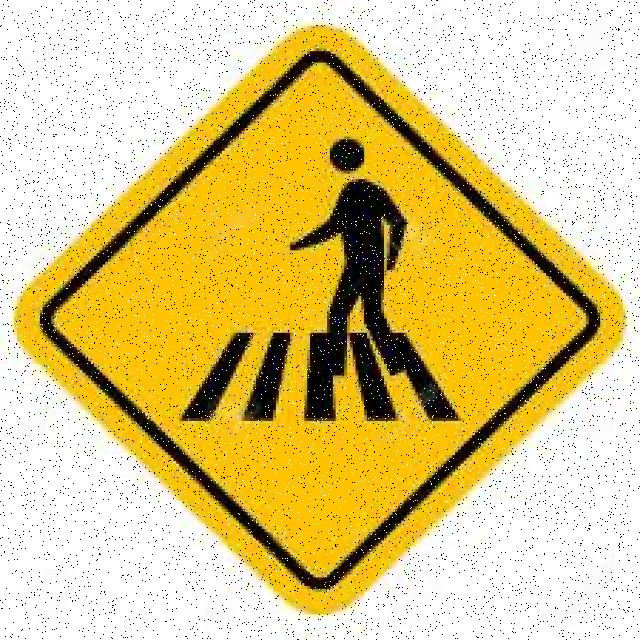Pedestrain_crossing: (18, 25, 620, 609)
